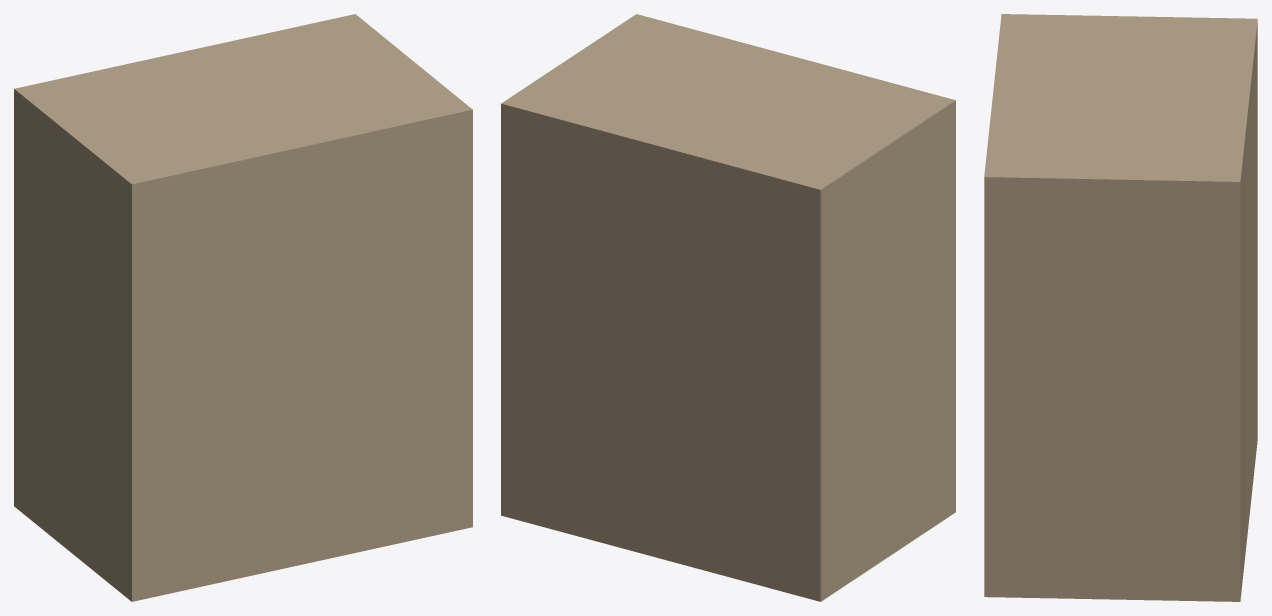
Rendered from bld_106796640.dae.
3 views of the same model, side by side, from view 1: azimuth 30°, elevation 25°; view 2: azimuth 150°, elevation 25°; view 3: azimuth 270°, elevation 25° (orthographic).
Visible parts, largest first — view 1: bld_106796640; view 2: bld_106796640; view 3: bld_106796640.
Boxes of the visible parts, x1=… form: bld_106796640: x1=14, y1=14, x2=472, y2=601; bld_106796640: x1=501, y1=14, x2=955, y2=601; bld_106796640: x1=984, y1=14, x2=1257, y2=601.
Bounding box in the file's own units: 6.86 × 4.72 × 8.
